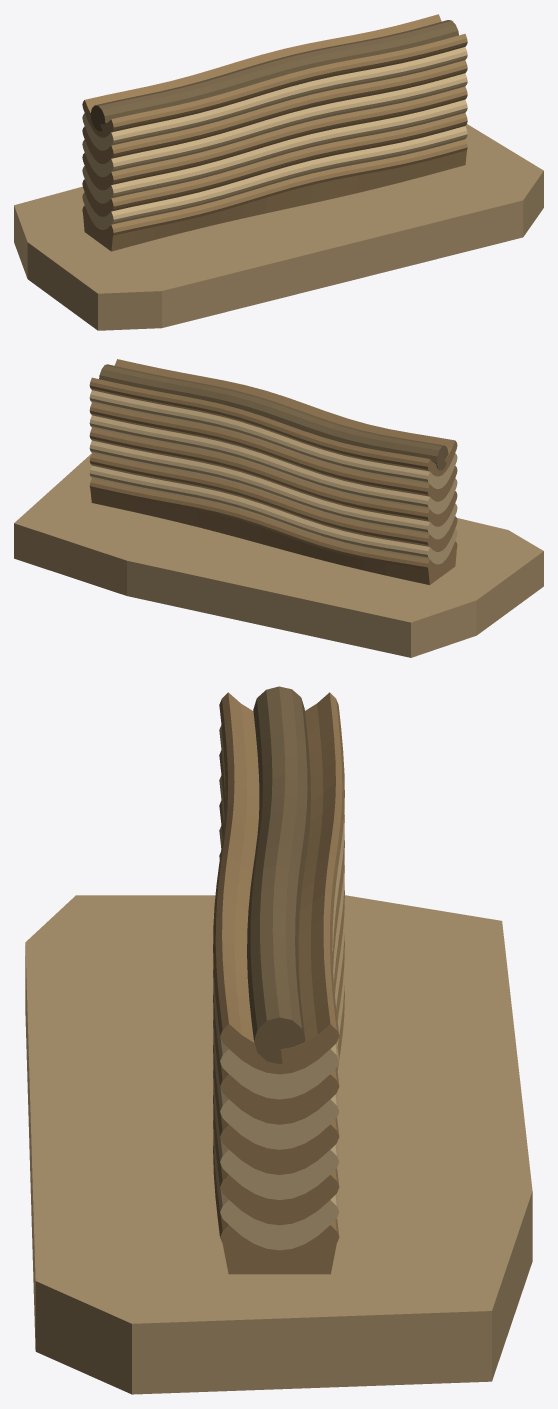
The model's file is teichichnus-spreite-wall.glb.
The picture shows the model from 3 angles, top to bottom: view 1: azimuth 30°, elevation 25°; view 2: azimuth 150°, elevation 25°; view 3: azimuth 270°, elevation 25°; orthographic projection. The views are drawn at different scales.
Visible parts, largest first — view 1: gutter-laminae-with-real-layer-edge-relief, irregular-illustrative-sediment-slab; view 2: gutter-laminae-with-real-layer-edge-relief, irregular-illustrative-sediment-slab; view 3: irregular-illustrative-sediment-slab, gutter-laminae-with-real-layer-edge-relief.
Boxes of the visible parts, left/top/right/bottom form: gutter-laminae-with-real-layer-edge-relief: left=82, top=14, right=467, bottom=251; irregular-illustrative-sediment-slab: left=14, top=124, right=543, bottom=330; gutter-laminae-with-real-layer-edge-relief: left=89, top=359, right=457, bottom=584; irregular-illustrative-sediment-slab: left=14, top=454, right=543, bottom=657; irregular-illustrative-sediment-slab: left=25, top=895, right=532, bottom=1394; gutter-laminae-with-real-layer-edge-relief: left=213, top=686, right=344, bottom=1274.
Size of the model in its own units: 0.13 by 0.0474 by 0.065.
